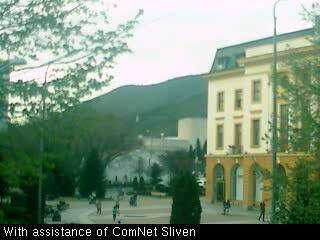person: (258, 200, 266, 222), (222, 198, 231, 216), (96, 200, 103, 215), (114, 201, 120, 217), (133, 190, 137, 207), (112, 207, 117, 220), (129, 196, 134, 208), (117, 219, 121, 224)
